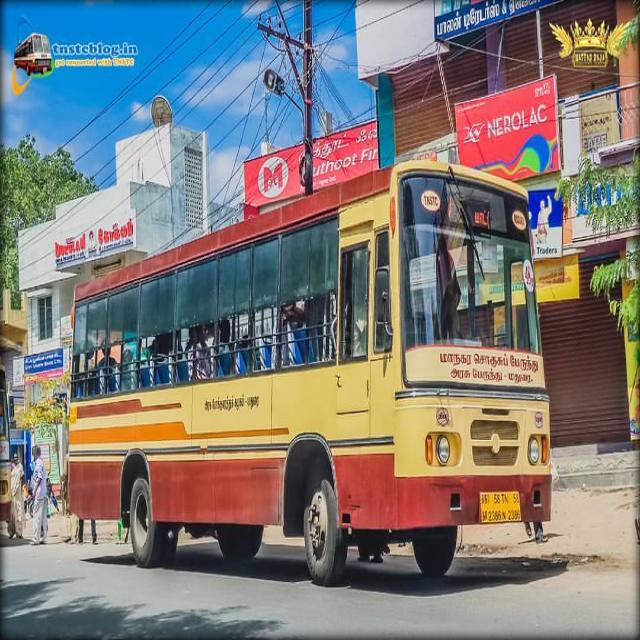Bus: (67, 162, 560, 591), (1, 364, 14, 528)
